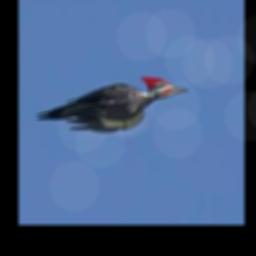Woodpecker: (35, 76, 189, 132)
